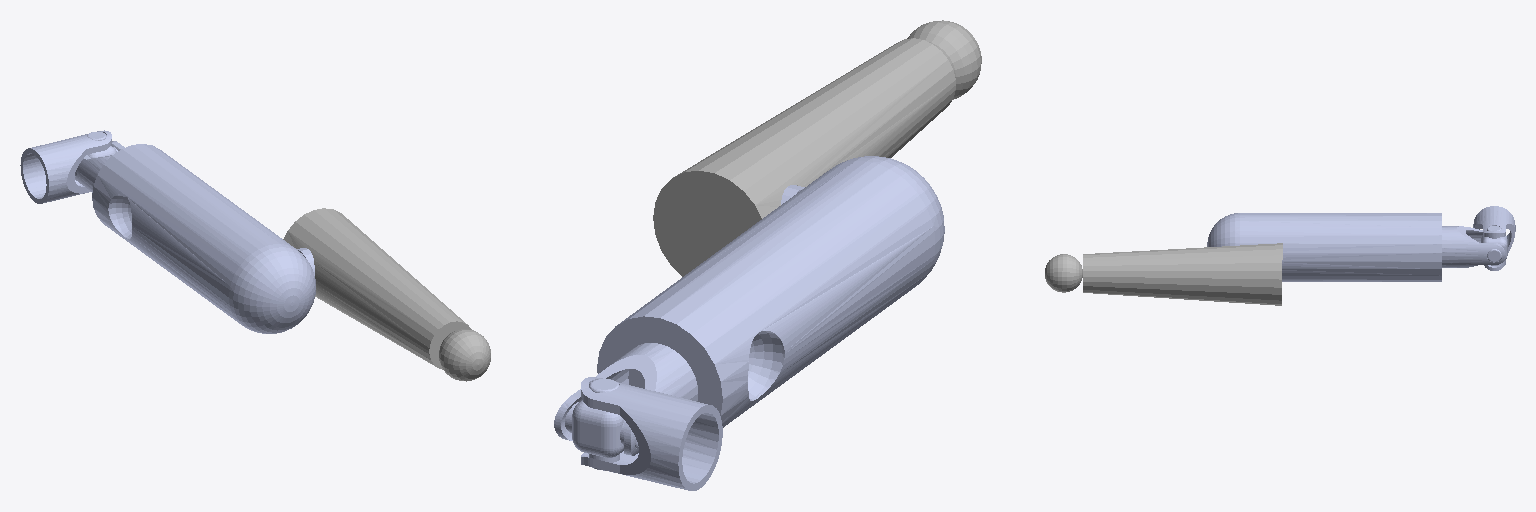
robot.urdf — human_v2:
<?xml version="1.0" encoding="utf-8"?>
<!-- This URDF was automatically created by SolidWorks to URDF Exporter! Originally created by [author] ([email redacted]) 
     Commit Version: 1.6.0-1-g15f4949  Build Version: 1.6.7594.29634
     For more information, please see http://wiki.ros.org/sw_urdf_exporter -->
<robot
  name="human_v2">
  <link
    name="base_link">
    <inertial>
      <origin
        xyz="0.0002987 0 0.20019"
        rpy="0 0 0" />
      <mass
        value="21.148" />
      <inertia
        ixx="0.31372"
        ixy="-6.6938E-18"
        ixz="-0.00075664"
        iyy="0.49862"
        iyz="-5.7126E-10"
        izz="0.26189" />
    </inertial>
    <visual>
      <origin
        xyz="0 0 0"
        rpy="0 0 0" />
      <geometry>
        <mesh
          filename="package://human_v2/meshes/base_link.STL" />
      </geometry>
      <material
        name="">
        <color
          rgba="0.74902 0.74902 0.74902 1" />
      </material>
    </visual>
    <collision>
      <origin
        xyz="0 0 0"
        rpy="0 0 0" />
      <geometry>
        <mesh
          filename="package://human_v2/meshes/base_link.STL" />
      </geometry>
    </collision>
  </link>
  <link
    name="Shoulder_Link">
    <inertial>
      <origin
        xyz="0.028934 -3.3332E-07 4.0773E-07"
        rpy="0 0 0" />
      <mass
        value="0.039246" />
      <inertia
        ixx="2.5628E-05"
        ixy="4.8361E-10"
        ixz="-6.0372E-10"
        iyy="3.3171E-05"
        iyz="-1.2792E-09"
        izz="2.6396E-05" />
    </inertial>
    <visual>
      <origin
        xyz="0 0 0"
        rpy="0 0 0" />
      <geometry>
        <mesh
          filename="package://human_v2/meshes/Shoulder_Link.STL" />
      </geometry>
      <material
        name="">
        <color
          rgba="0.79216 0.81961 0.93333 1" />
      </material>
    </visual>
    <collision>
      <origin
        xyz="0 0 0"
        rpy="0 0 0" />
      <geometry>
        <mesh
          filename="package://human_v2/meshes/Shoulder_Link.STL" />
      </geometry>
    </collision>
  </link>
  <joint
    name="shoulder_Joint"
    type="continuous">
    <origin
      xyz="0.18 0 0.32"
      rpy="0 0 0" />
    <parent
      link="base_link" />
    <child
      link="Shoulder_Link" />
    <axis
      xyz="1 0 0" />
  </joint>
  <link
    name="Arm_Link">
    <inertial>
      <origin
        xyz="0.001504 -0.21367 2.1137E-05"
        rpy="0 0 0" />
      <mass
        value="2.065" />
      <inertia
        ixx="0.015833"
        ixy="0.00012729"
        ixz="-2.4985E-07"
        iyy="0.0021521"
        iyz="1.4532E-06"
        izz="0.015925" />
    </inertial>
    <visual>
      <origin
        xyz="0 0 0"
        rpy="0 0 0" />
      <geometry>
        <mesh
          filename="package://human_v2/meshes/Arm_Link.STL" />
      </geometry>
      <material
        name="">
        <color
          rgba="0.79216 0.81961 0.93333 1" />
      </material>
    </visual>
    <collision>
      <origin
        xyz="0 0 0"
        rpy="0 0 0" />
      <geometry>
        <mesh
          filename="package://human_v2/meshes/Arm_Link.STL" />
      </geometry>
    </collision>
  </link>
  <joint
    name="Arm_Joint"
    type="continuous">
    <origin
      xyz="0.07 0 0"
      rpy="0 0 0" />
    <parent
      link="Shoulder_Link" />
    <child
      link="Arm_Link" />
    <axis
      xyz="0 7.9554E-05 1" />
  </joint>
  <link
    name="Forearm_Link">
    <inertial>
      <origin
        xyz="0.043007 -0.087026 0.00061887"
        rpy="0 0 0" />
      <mass
        value="1.0081" />
      <inertia
        ixx="0.0075453"
        ixy="-8.0779E-05"
        ixz="5.269E-07"
        iyy="0.00059467"
        iyz="3.9526E-05"
        izz="0.0075218" />
    </inertial>
    <visual>
      <origin
        xyz="0 0 0"
        rpy="0 0 0" />
      <geometry>
        <mesh
          filename="package://human_v2/meshes/Forearm_Link.STL" />
      </geometry>
      <material
        name="">
        <color
          rgba="0.74902 0.74902 0.74902 1" />
      </material>
    </visual>
    <collision>
      <origin
        xyz="0 0 0"
        rpy="0 0 0" />
      <geometry>
        <mesh
          filename="package://human_v2/meshes/Forearm_Link.STL" />
      </geometry>
    </collision>
  </link>
  <joint
    name="Forearm_Joint"
    type="continuous">
    <origin
      xyz="0.043395 -0.322 0.00014624"
      rpy="0 0 0" />
    <parent
      link="Arm_Link" />
    <child
      link="Forearm_Link" />
    <axis
      xyz="-1 2.0809E-05 -0.0027793" />
  </joint>
</robot>

--- Render facts (derived) ---
3 views of the same robot in one strip: view 1: azimuth 30°, elevation 25°; view 2: azimuth 150°, elevation 25°; view 3: azimuth 270°, elevation 25° (orthographic).
Model human_v2 with 4 links and 3 joints (3 continuous), rooted at base_link, posed all joints at 0.
Visible links, largest first — view 1: Arm_Link, Forearm_Link, Shoulder_Link; view 2: Arm_Link, Forearm_Link, Shoulder_Link; view 3: Arm_Link, Forearm_Link, Shoulder_Link.
Boxes of the visible links, x1,y1,x2,y2 form: Arm_Link: [75, 132, 315, 333]; Forearm_Link: [283, 208, 490, 381]; Shoulder_Link: [20, 130, 111, 203]; Arm_Link: [554, 156, 944, 470]; Forearm_Link: [653, 20, 981, 276]; Shoulder_Link: [581, 377, 722, 490]; Arm_Link: [1207, 213, 1507, 281]; Forearm_Link: [1045, 243, 1282, 305]; Shoulder_Link: [1473, 206, 1515, 270].
Size in the robot's own frame: 0.1974 by 0.6263 by 0.0917 metres.
Meshes: 4 distinct files referenced, 3 mesh visuals loaded (3 binary STL); not drawn: 1 (reference not matched to a file when rendering).